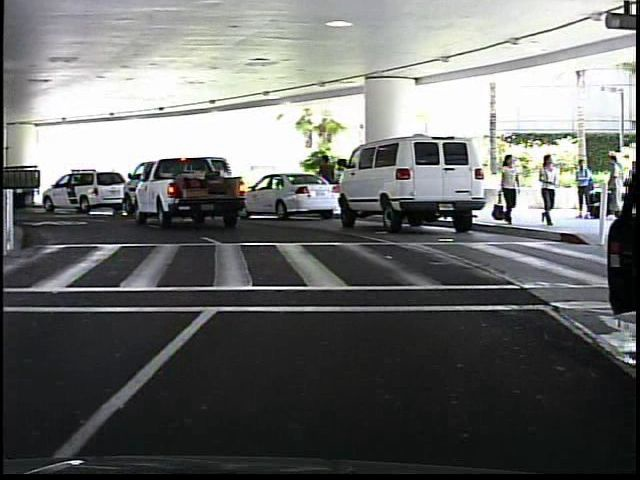person: (536, 154, 564, 231), (496, 152, 522, 227), (571, 159, 598, 227), (603, 153, 626, 221), (319, 153, 340, 212)
